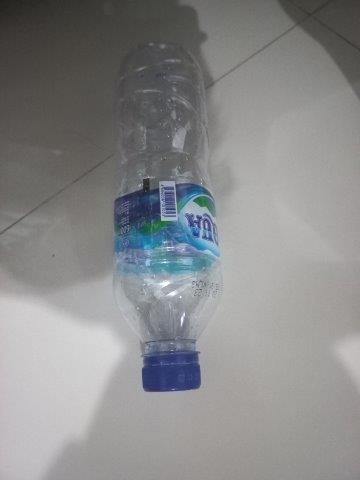botolplastik: (113, 40, 219, 391)
